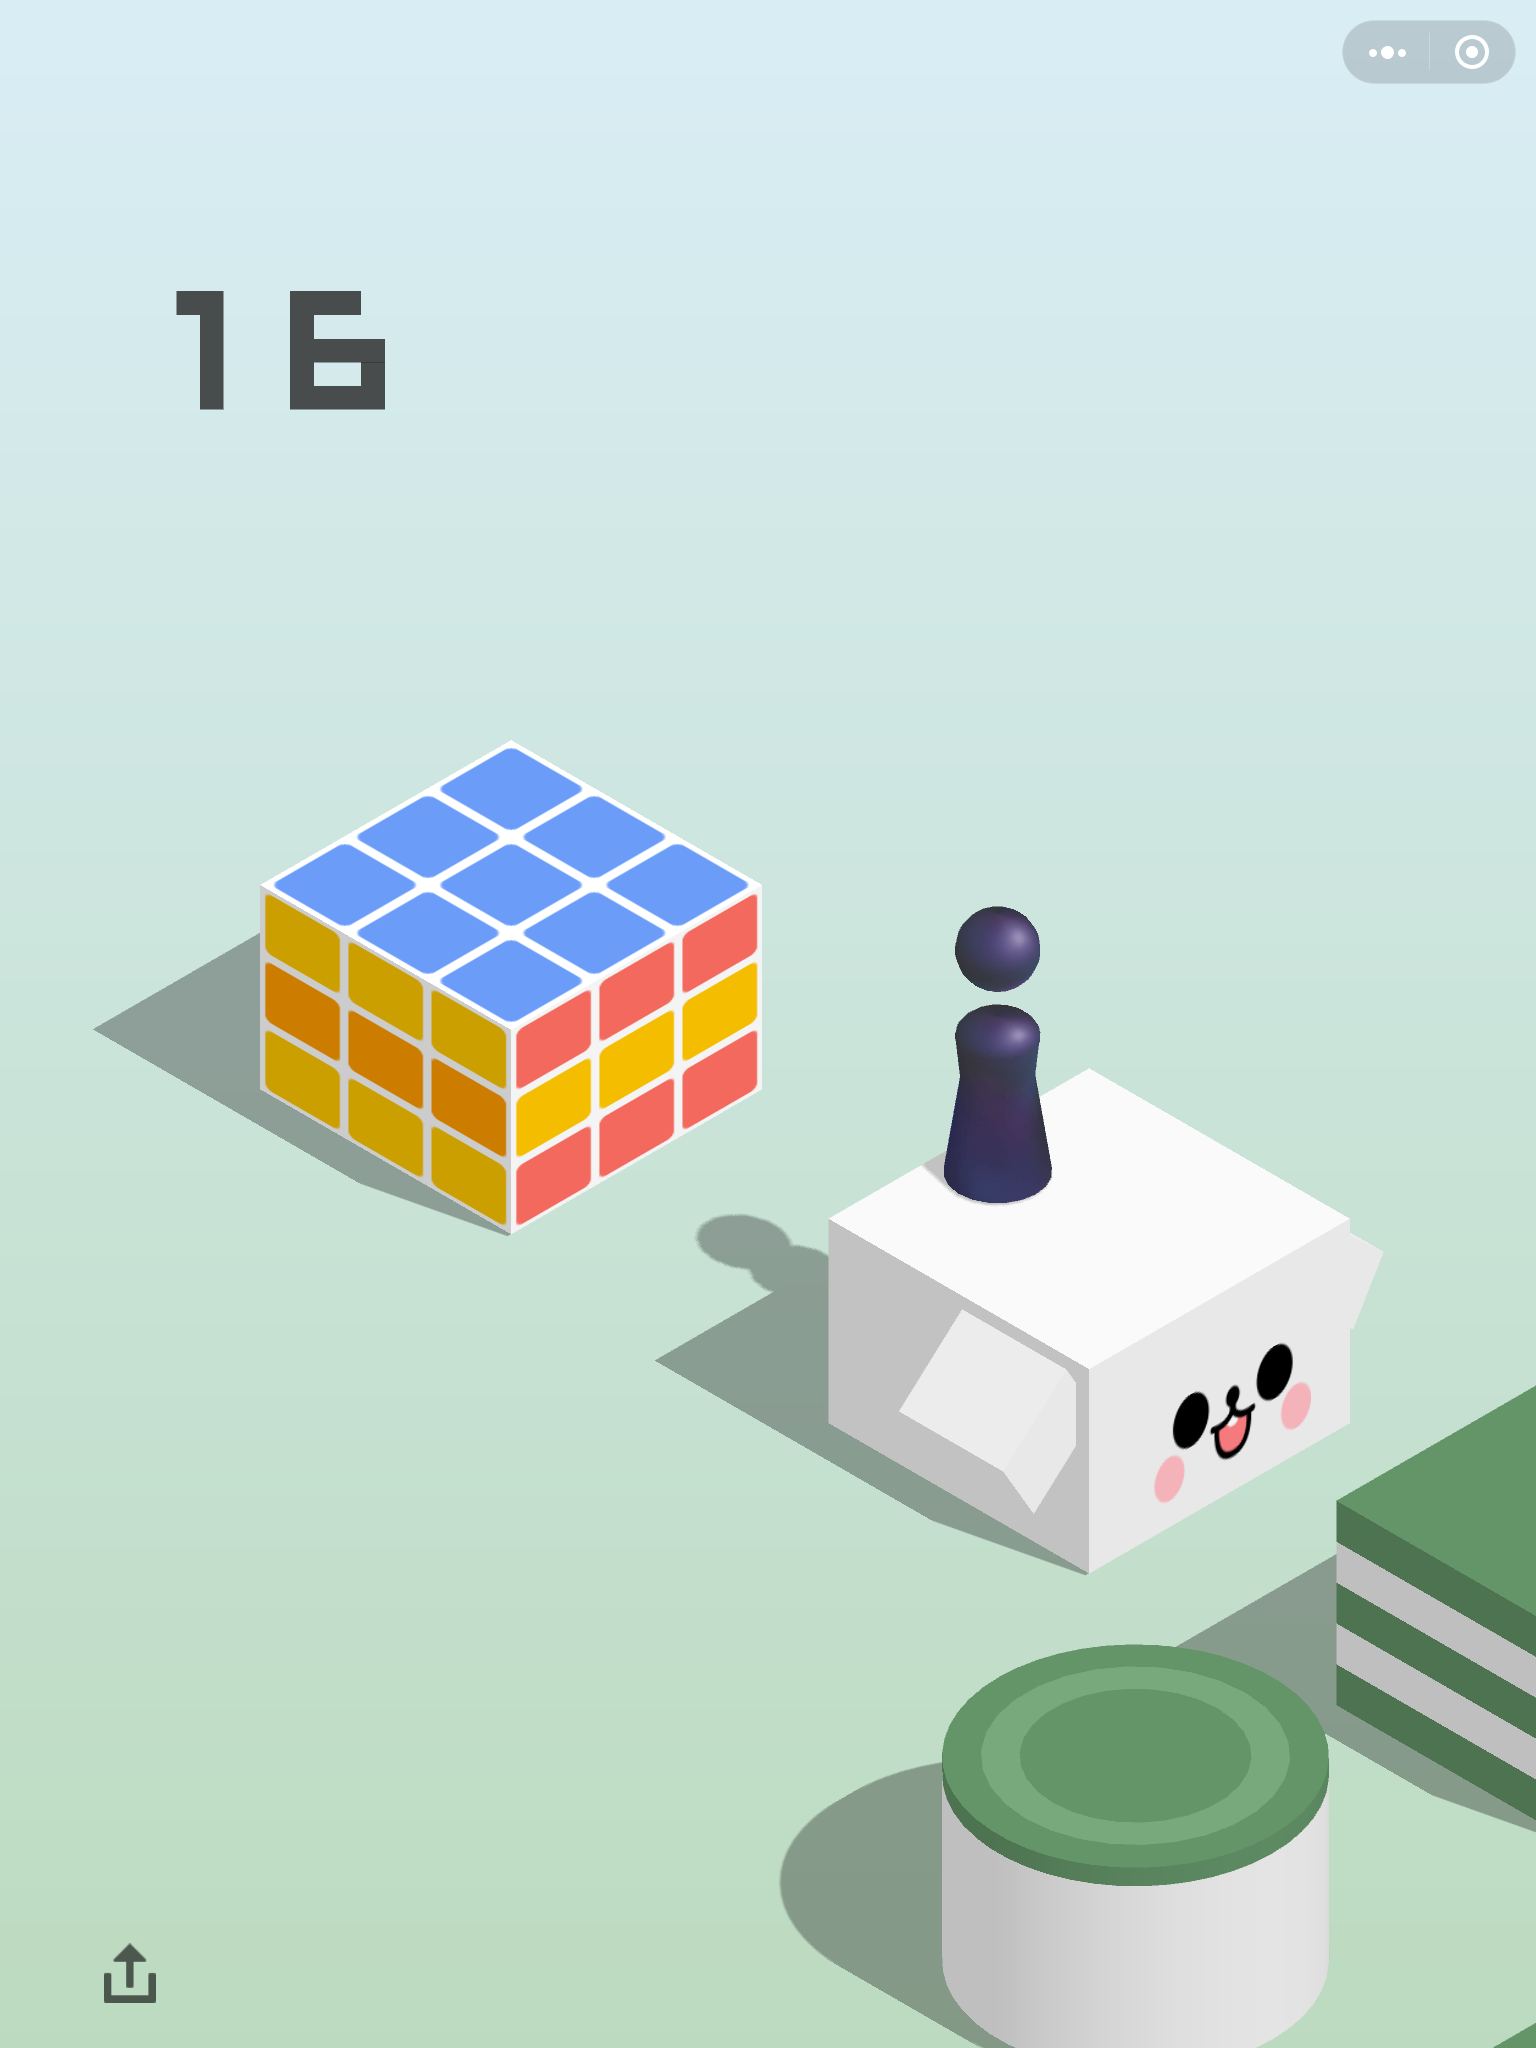c: (934, 1638, 1338, 2048)
f: (818, 1061, 1376, 1577), (255, 743, 763, 1243), (1334, 1377, 1536, 1835)
r: (936, 892, 1058, 1213)
